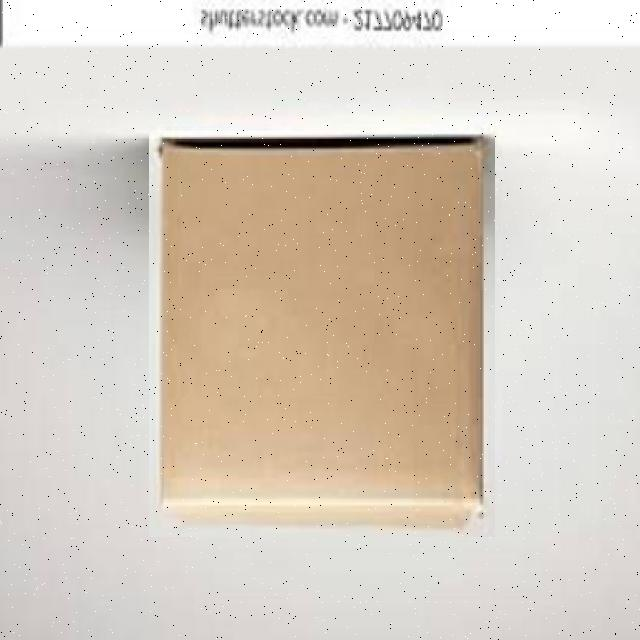normal: (150, 132, 496, 537)
